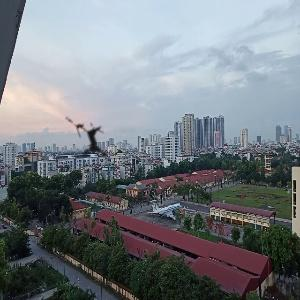drone: (43, 94, 138, 189)
